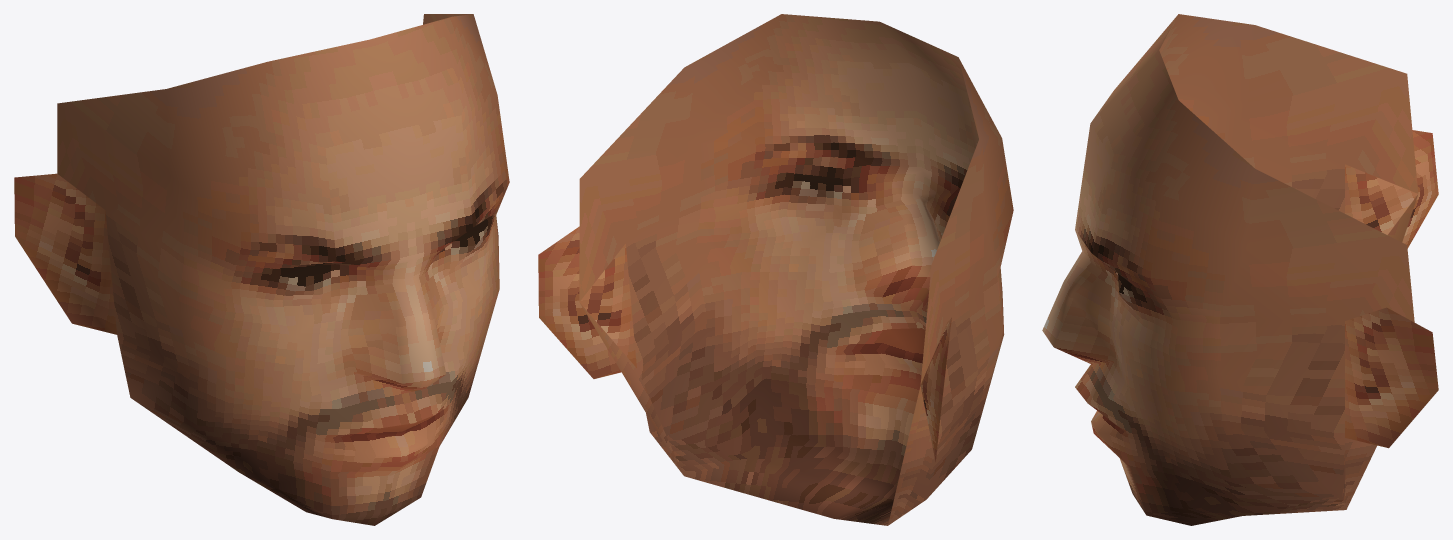
The picture shows the model from 3 angles, left to right: view 1: azimuth 30°, elevation 25°; view 2: azimuth 150°, elevation 25°; view 3: azimuth 270°, elevation 25°; orthographic projection. The views are drawn at different scales.
Size of the model in its own units: 17.18 by 18.86 by 14.45.
Materials: 1 (1 with a texture image).
